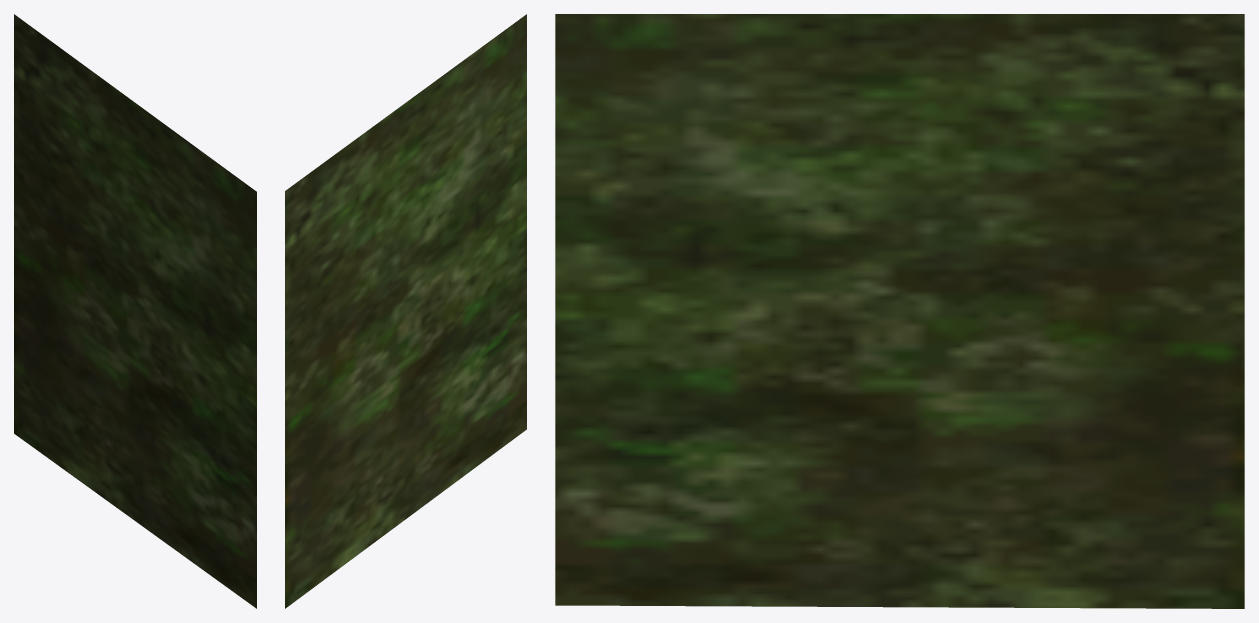
Rendered from OVERHILL_A_01_OBJECT88.fbx.
3 views of the same model, side by side, from view 1: azimuth 30°, elevation 25°; view 2: azimuth 150°, elevation 25°; view 3: azimuth 270°, elevation 25° (orthographic). The views are drawn at different scales.
Visible parts, largest first — view 1: OVERHILL_A_01_OBJECT88; view 2: OVERHILL_A_01_OBJECT88; view 3: OVERHILL_A_01_OBJECT88.
Part boxes in pixels (x1,y1,x2,y2): OVERHILL_A_01_OBJECT88: [14, 14, 256, 608]; OVERHILL_A_01_OBJECT88: [285, 14, 526, 608]; OVERHILL_A_01_OBJECT88: [555, 14, 1244, 608].
Bounding box in the file's own units: 0 × 23632 × 24802.
Materials: 1 (1 with a texture image).
